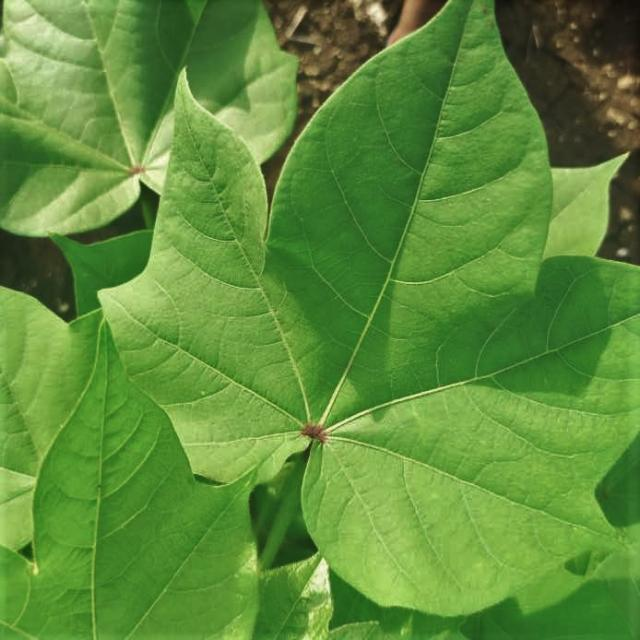Healthy Leaf: (11, 6, 599, 640)
